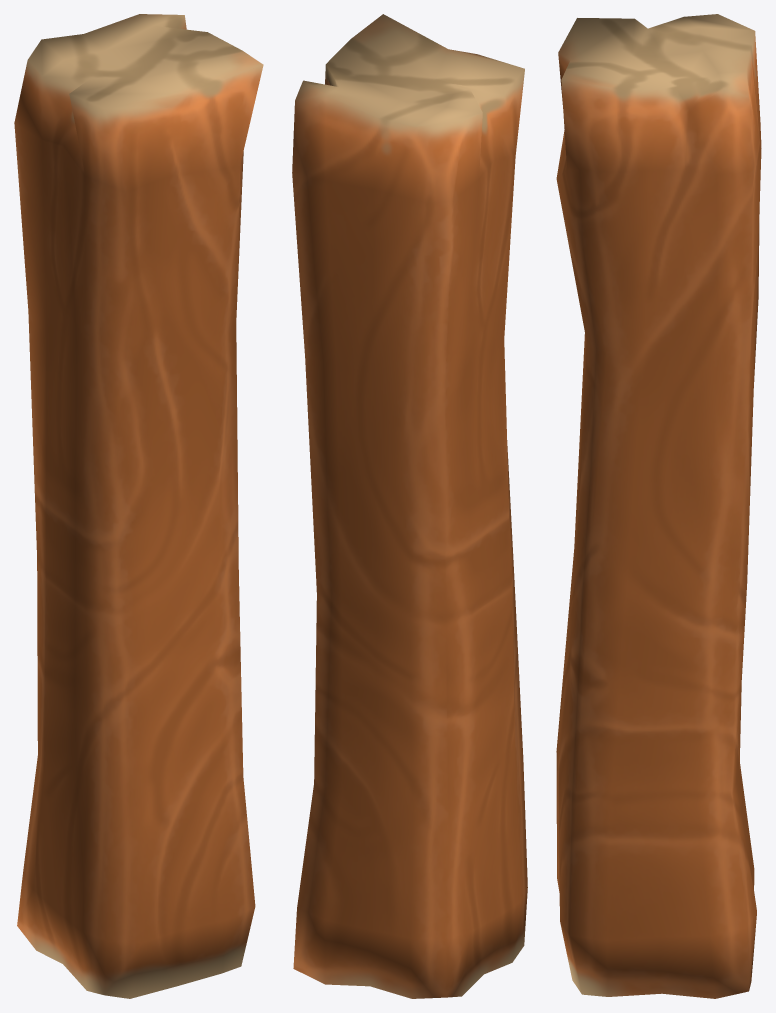
File: fance4.fbx
3 views of the same model, side by side, from view 1: azimuth 30°, elevation 25°; view 2: azimuth 150°, elevation 25°; view 3: azimuth 270°, elevation 25° (orthographic). The views are drawn at different scales.
Parts seen in each view (by area): view 1: Retopo_Cube.009; view 2: Retopo_Cube.009; view 3: Retopo_Cube.009.
Part boxes in pixels (x1,y1,x2,y2): Retopo_Cube.009: (14, 14, 263, 998); Retopo_Cube.009: (292, 14, 527, 998); Retopo_Cube.009: (556, 14, 761, 998).
Bounding box in the file's own units: 96.87 × 504 × 101.
